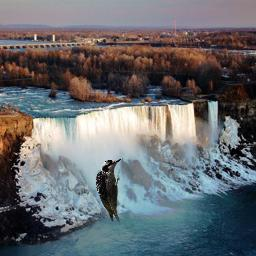Woodpecker: (93, 155, 124, 225)
